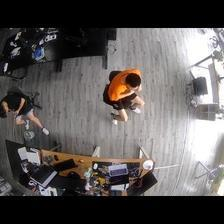normal: (1, 90, 52, 141), (106, 67, 150, 126)
